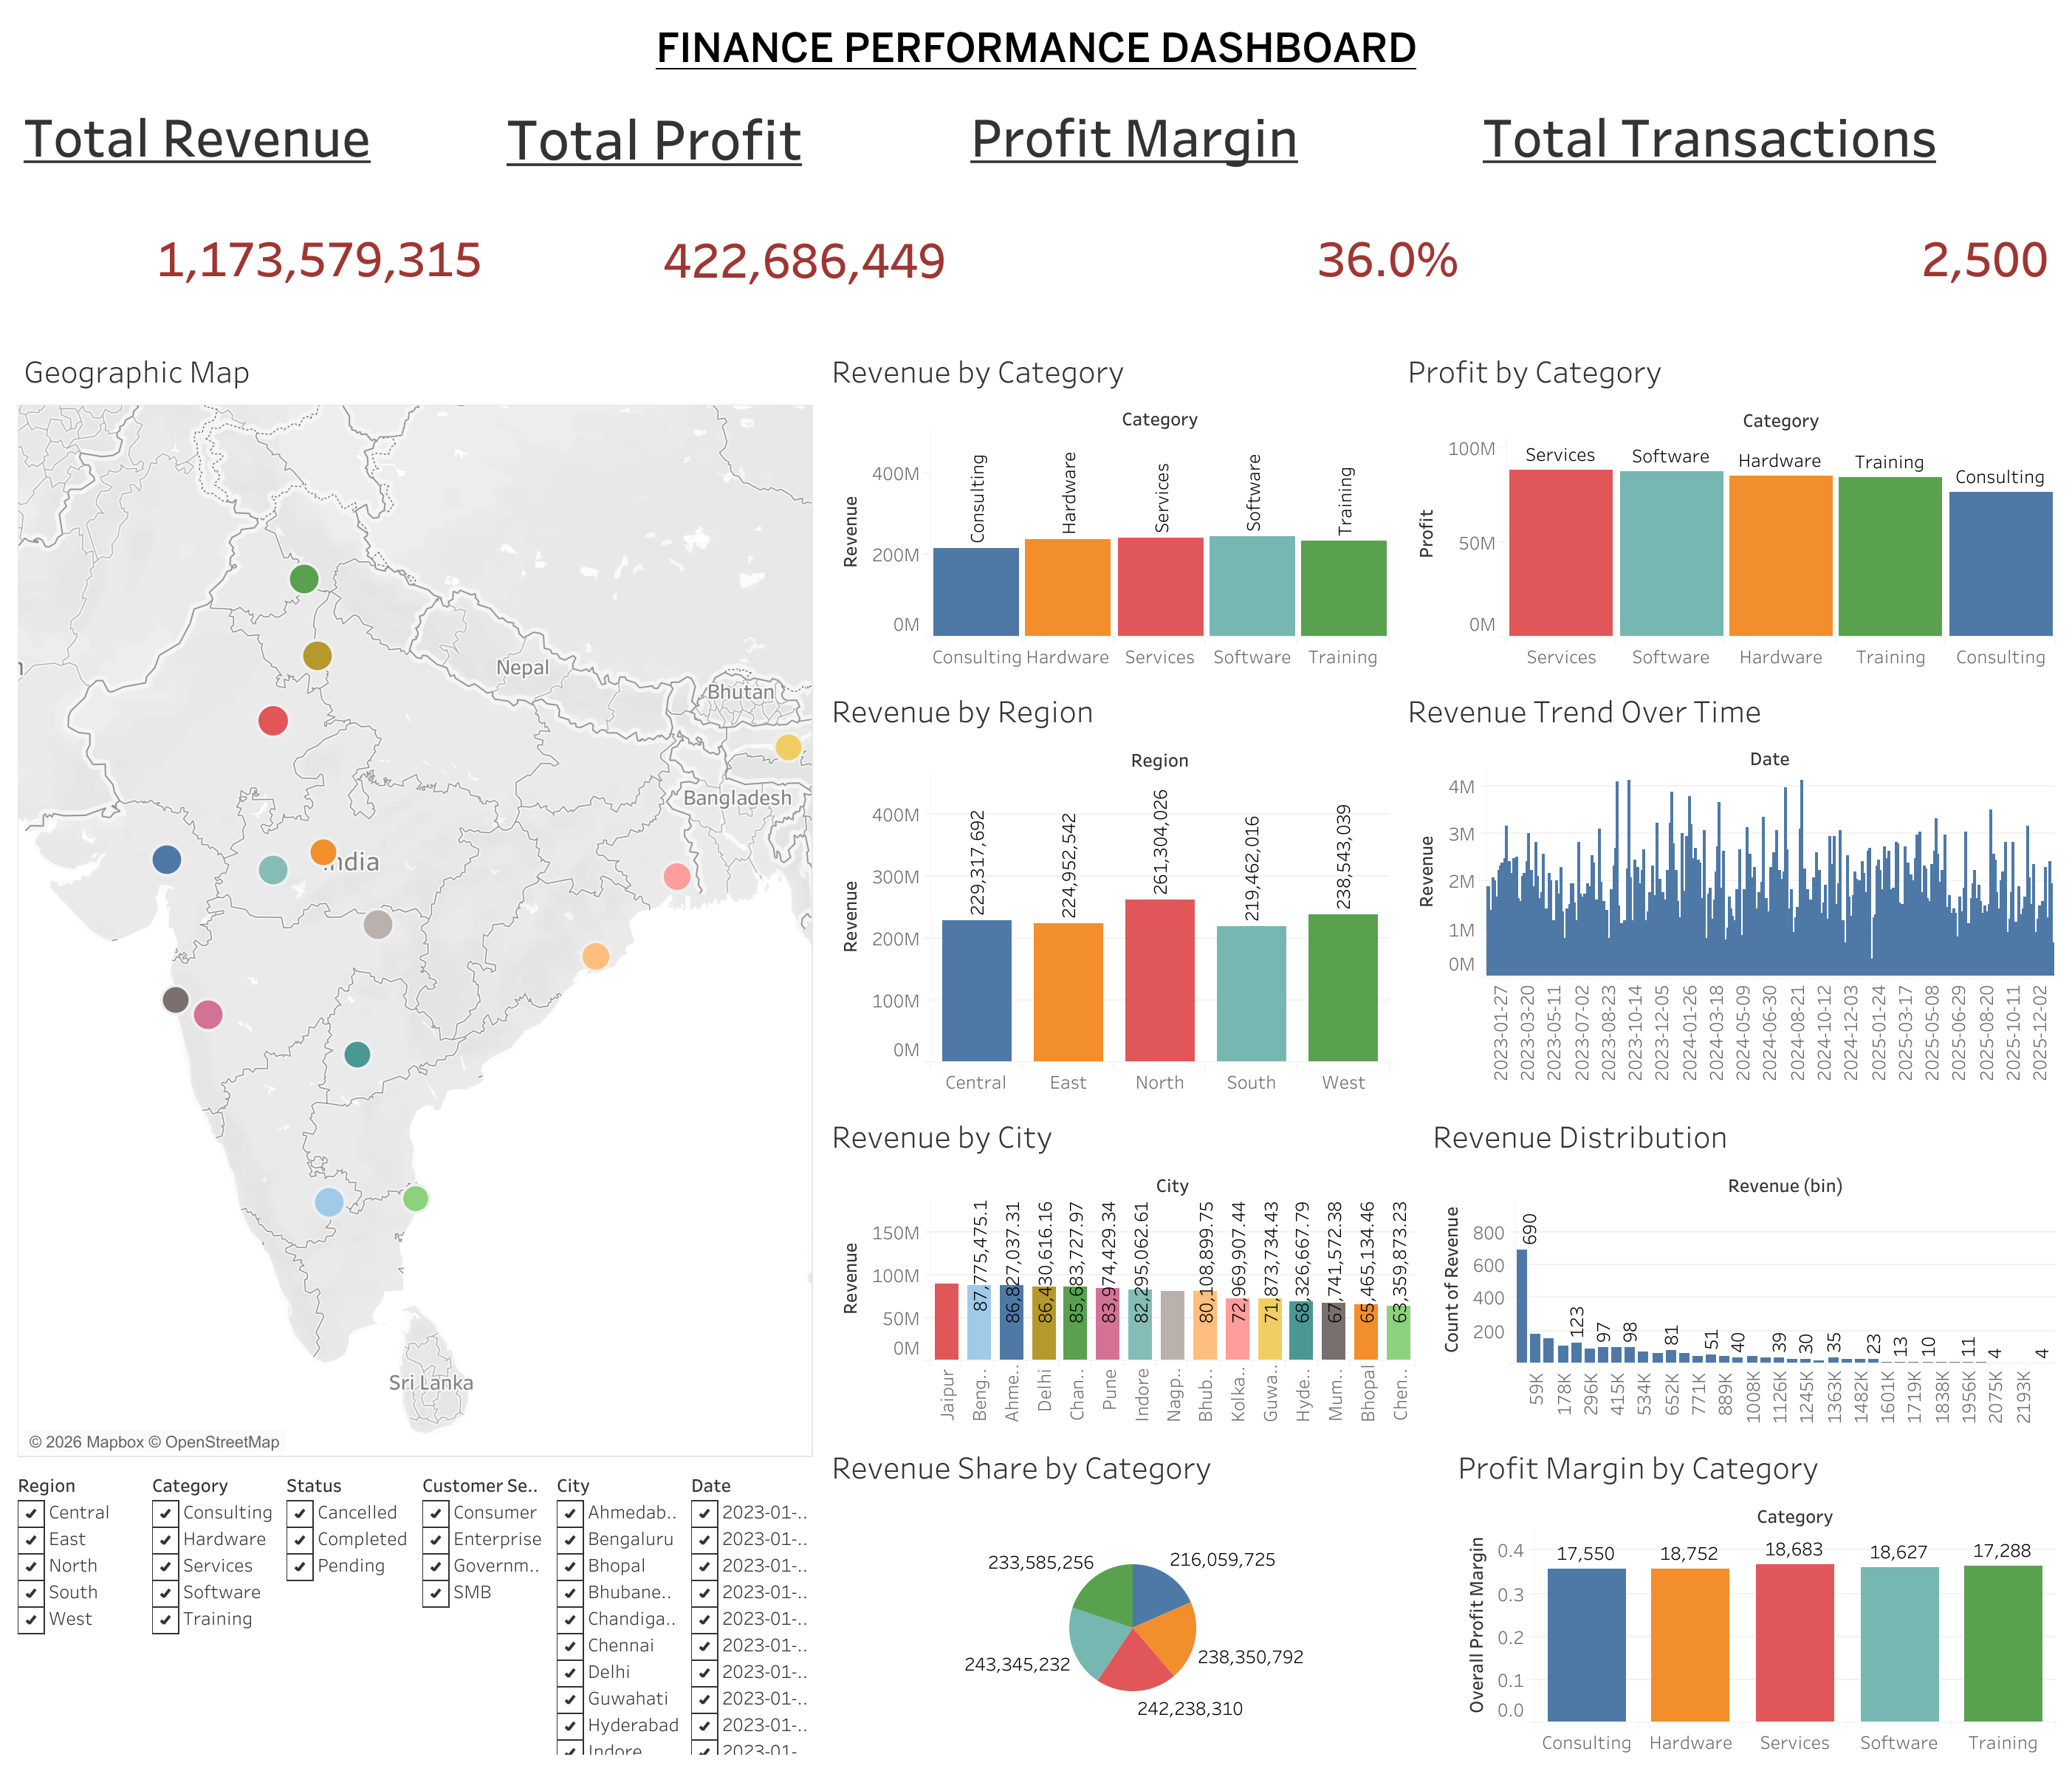

Layout of this report page (visuals, bound fields, positions):
{"tool":"tableau","page":{"name":"Dashboard 1","canvas":[1700,1500],"ordinal":0},"visuals":[{"type":"text","box":[8,8,1684,70.5]},{"type":"worksheet","title":"Total Revenue","mark":"Automatic","box":[8,78.5,396.5,132.6]},{"type":"worksheet","title":"Total Profit","mark":"Automatic","box":[404.5,78.5,381.7,132.6]},{"type":"worksheet","title":"Profit Margin","mark":"Automatic","box":[786.2,78.5,421,132.6]},{"type":"worksheet","title":"Total Transactions","mark":"Automatic","box":[1207.2,78.5,484.8,132.6]},{"type":"worksheet","title":"Geographic Map","mark":"Automatic","box":[8,211.1,664,1048]},{"type":"worksheet","title":"Revenue by Category","mark":"Automatic","rows":["Revenue"],"cols":["Category"],"box":[672,211.1,473,360.2]},{"type":"worksheet","title":"Profit by Category","mark":"Automatic","rows":["Profit"],"cols":["Category"],"box":[1145,211.1,547,360.2]},{"type":"worksheet","title":"Revenue by Region","mark":"Automatic","rows":["Revenue"],"cols":["Region"],"box":[672,571.2,473,360.2]},{"type":"worksheet","title":"Revenue Trend Over Time","mark":"Automatic","rows":["Revenue"],"cols":["Date"],"box":[1145,571.2,547,360.2]},{"type":"worksheet","title":"Revenue by City","mark":"Automatic","rows":["Revenue"],"cols":["City"],"box":[672,931.4,493.7,280.8]},{"type":"worksheet","title":"Revenue Distribution","mark":"Automatic","rows":["Revenue"],"cols":["Revenue (bin)"],"box":[1165.7,931.4,526.3,280.8]},{"type":"worksheet","title":"Revenue Share by Category","mark":"Pie","box":[672,1212.3,513.9,279.7]},{"type":"worksheet","title":"Profit Margin by Category","mark":"Automatic","rows":["Calculation_4355747975987200"],"cols":["Category"],"box":[1185.9,1212.3,506.1,279.7]},{"type":"filter","title":"Revenue by Category","param":"[federated.0ucjkgr05kizov1aoc3y40uu141d].[none:Region:nk]","box":[8,1259.1,110.7,201]},{"type":"filter","title":"Revenue Trend Over Time","param":"[federated.0ucjkgr05kizov1aoc3y40uu141d].[none:Date:nk]","box":[118.7,1259.1,110.7,201]},{"type":"filter","title":"Profit by Category","param":"[federated.0ucjkgr05kizov1aoc3y40uu141d].[none:Category:nk]","box":[229.3,1259.1,110.7,201]},{"type":"filter","title":"Revenue by Category","param":"[federated.0ucjkgr05kizov1aoc3y40uu141d].[none:Status:nk]","box":[340,1259.1,110.7,201]},{"type":"filter","title":"Revenue by Category","param":"[federated.0ucjkgr05kizov1aoc3y40uu141d].[none:Customer_Segment:nk]","box":[450.6,1259.1,110.7,201]},{"type":"filter","title":"Revenue by Category","param":"[federated.0ucjkgr05kizov1aoc3y40uu141d].[none:City:nk]","box":[561.3,1259.1,110.7,201]}]}

Visuals, with their boxes on the page's 1700x1500 design canvas (x1, y1, x2, y2). These are canvas units, not pixel positions in the 2072x1771 screenshot, which may show the page scaled, cropped or inside an application window:
text: <box>8,8,1692,78</box>
"Total Revenue" worksheet: <box>8,78,404,211</box>
"Total Profit" worksheet: <box>404,78,786,211</box>
"Profit Margin" worksheet: <box>786,78,1207,211</box>
"Total Transactions" worksheet: <box>1207,78,1692,211</box>
"Geographic Map" worksheet: <box>8,211,672,1259</box>
"Revenue by Category" worksheet: <box>672,211,1145,571</box>
"Profit by Category" worksheet: <box>1145,211,1692,571</box>
"Revenue by Region" worksheet: <box>672,571,1145,931</box>
"Revenue Trend Over Time" worksheet: <box>1145,571,1692,931</box>
"Revenue by City" worksheet: <box>672,931,1166,1212</box>
"Revenue Distribution" worksheet: <box>1166,931,1692,1212</box>
"Revenue Share by Category" worksheet (Pie marks): <box>672,1212,1186,1492</box>
"Profit Margin by Category" worksheet: <box>1186,1212,1692,1492</box>
"Revenue by Category" filter: <box>8,1259,119,1460</box>
"Revenue Trend Over Time" filter: <box>119,1259,229,1460</box>
"Profit by Category" filter: <box>229,1259,340,1460</box>
"Revenue by Category" filter: <box>340,1259,451,1460</box>
"Revenue by Category" filter: <box>451,1259,561,1460</box>
"Revenue by Category" filter: <box>561,1259,672,1460</box>
